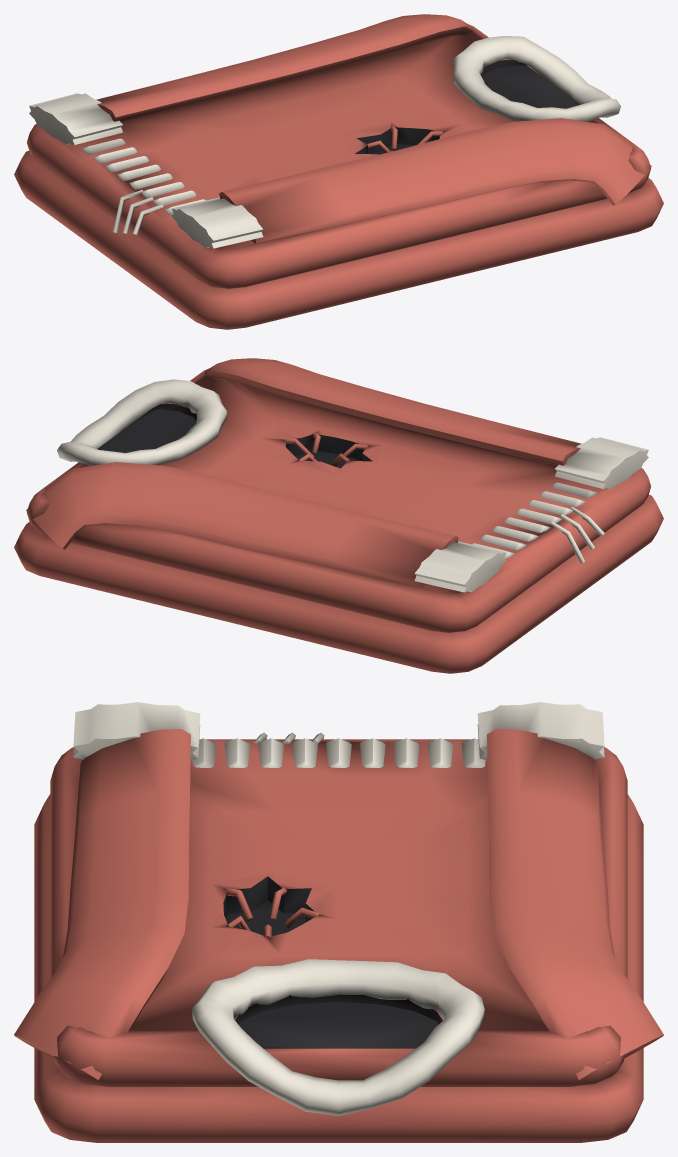
Rendered from wear_sweater_torn.glb.
3 views of the same model, one above another, from view 1: azimuth 30°, elevation 25°; view 2: azimuth 150°, elevation 25°; view 3: azimuth 270°, elevation 25° (orthographic). The views are drawn at different scales.
Visible parts, largest first — view 1: PART; view 2: PART; view 3: PART.
Boxes of the visible parts, <box> form: PART: <box>14,14,663,329</box>; PART: <box>14,358,663,673</box>; PART: <box>14,702,663,1142</box>.
Size of the model in its own units: 0.4075 by 0.0797 by 0.3199.
